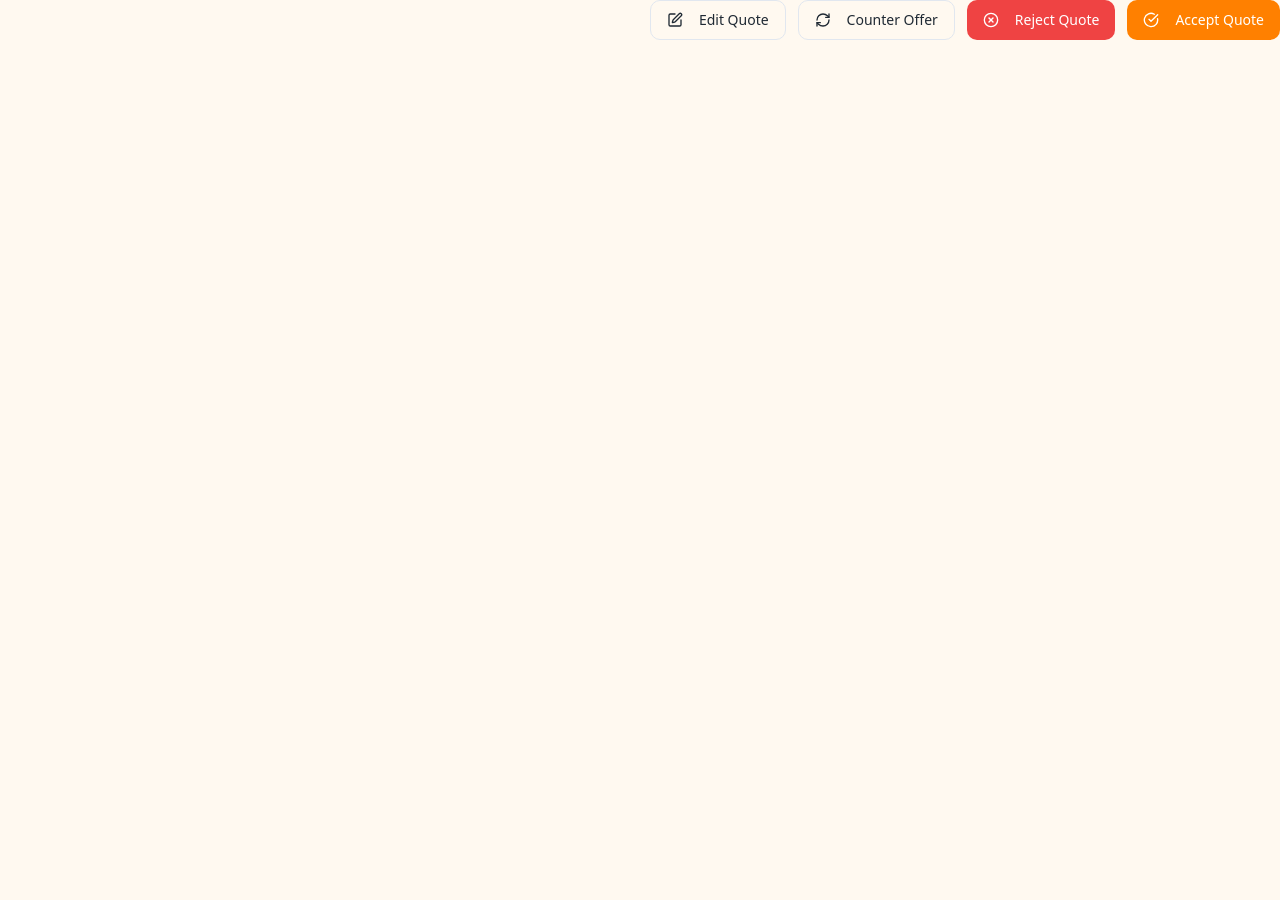
Test case: QuoteActions › Reject Quote Flow › should open rejection dialog when Reject button is clicked
Click the button "Reject Quote". click: coordinates (1041, 20)
box: [967, 0, 1115, 40]
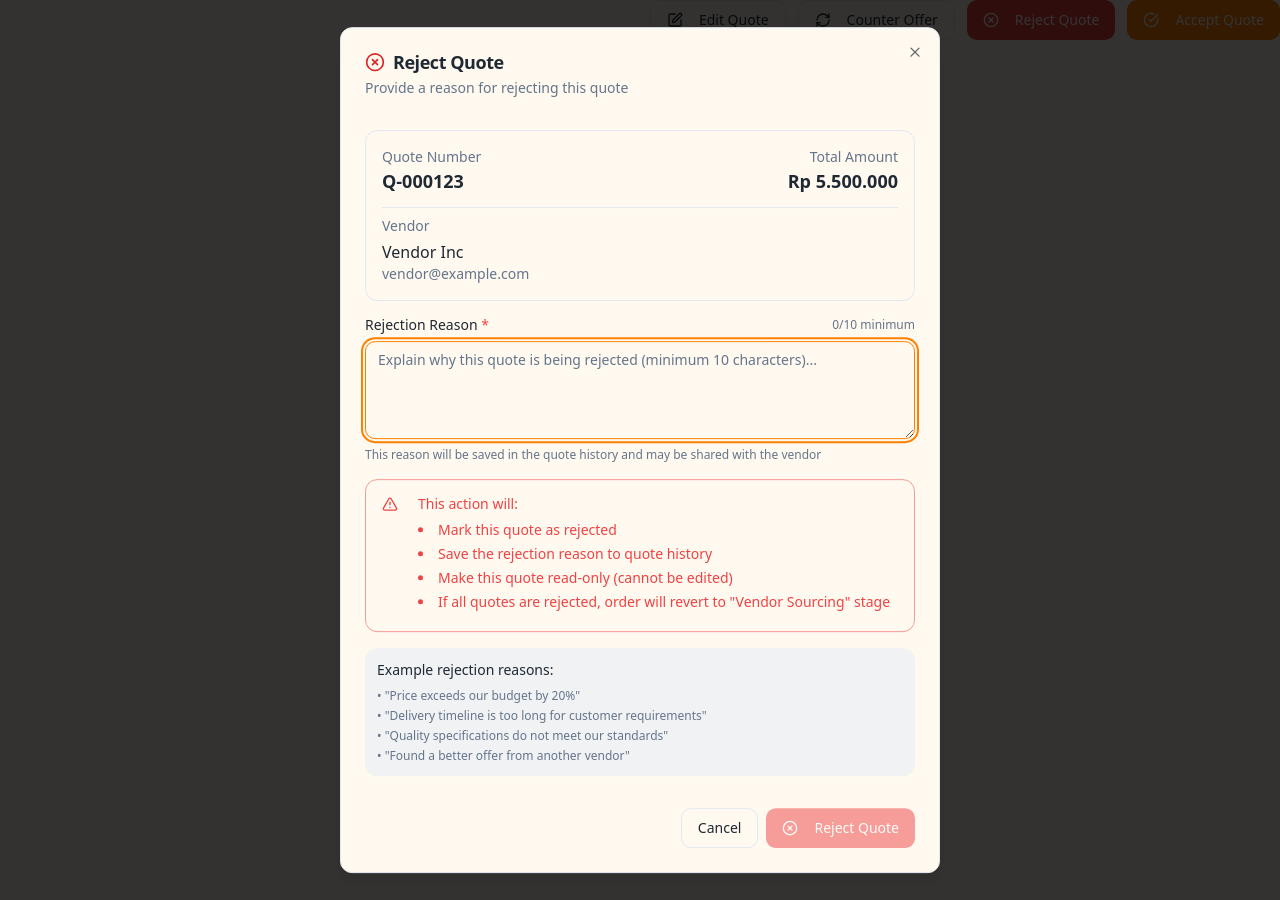
Result: the dialog is shown at [340, 27, 940, 873]
Result: the text "Provide a reason for rejecting this quote" is shown at [365, 78, 628, 97]
